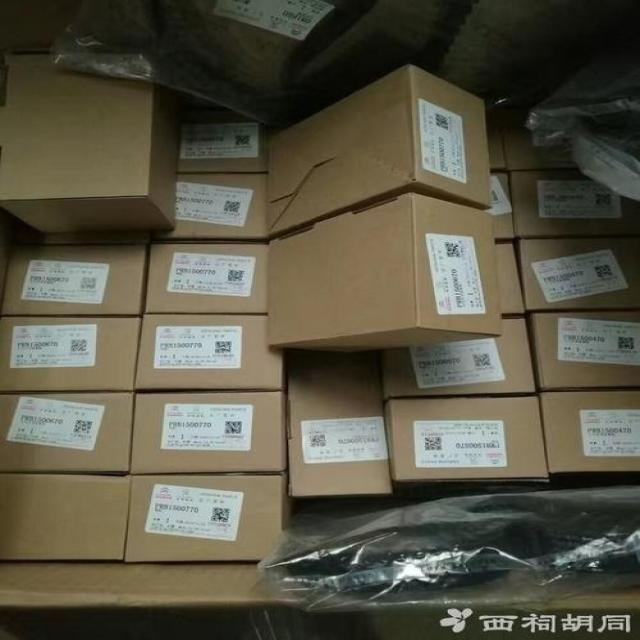box: (269, 63, 492, 239), (266, 191, 500, 354), (0, 64, 178, 234), (284, 354, 392, 497), (384, 396, 550, 481), (124, 475, 282, 561), (131, 391, 285, 475), (380, 317, 536, 398), (134, 314, 283, 390), (0, 474, 131, 560), (0, 392, 134, 473), (0, 316, 142, 392), (1, 244, 148, 315), (509, 169, 640, 237), (520, 237, 640, 310), (145, 243, 268, 313), (530, 311, 640, 389), (539, 390, 640, 474), (170, 172, 268, 239), (178, 121, 266, 173), (495, 243, 525, 315), (490, 173, 513, 240), (488, 134, 507, 173)
